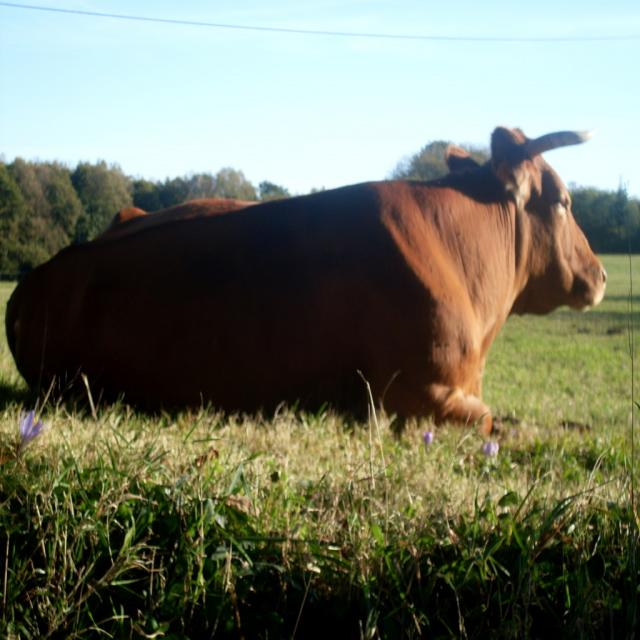Cattle: (5, 126, 607, 437)
